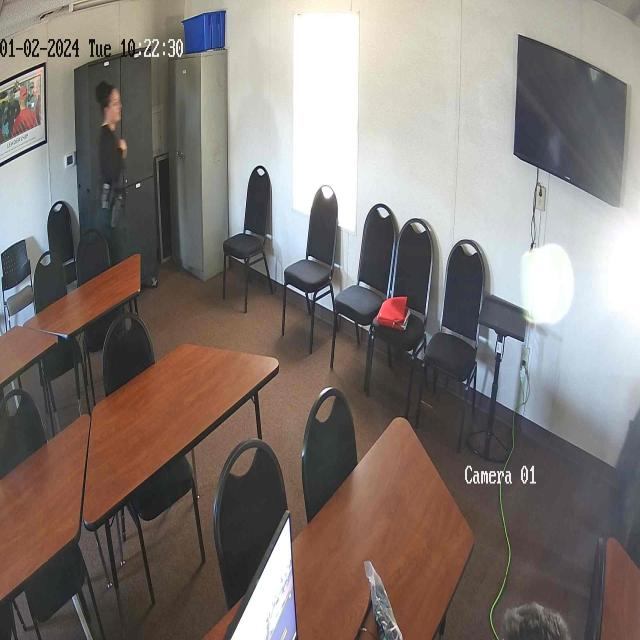weapon: (109, 192, 121, 228)
